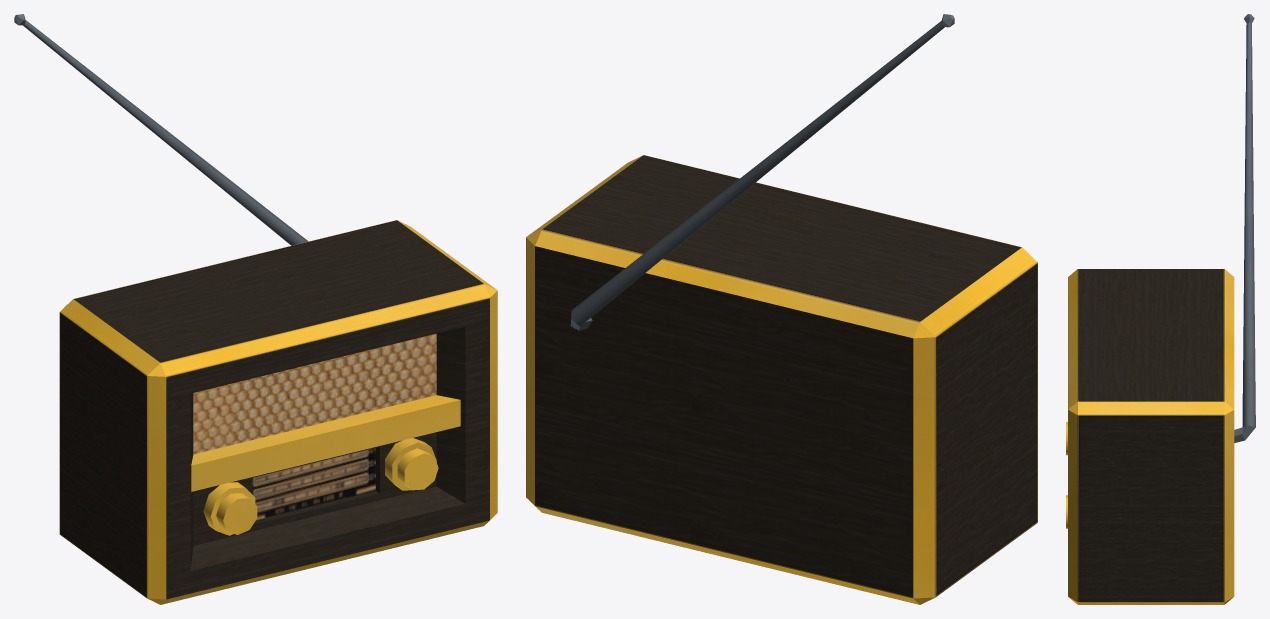
Rendered from radio.FBX.
3 views of the same model, side by side, from view 1: azimuth 30°, elevation 25°; view 2: azimuth 150°, elevation 25°; view 3: azimuth 270°, elevation 25° (orthographic). The views are drawn at different scales.
Parts seen in each view (by area): view 1: radio; view 2: radio; view 3: radio.
Boxes of the visible parts, x1,y1,x2,y2 form: radio: (14,14,497,604); radio: (526,14,1037,604); radio: (1066,14,1255,604).
Bounding box in the file's own units: 79.37 × 105 × 40.81.
